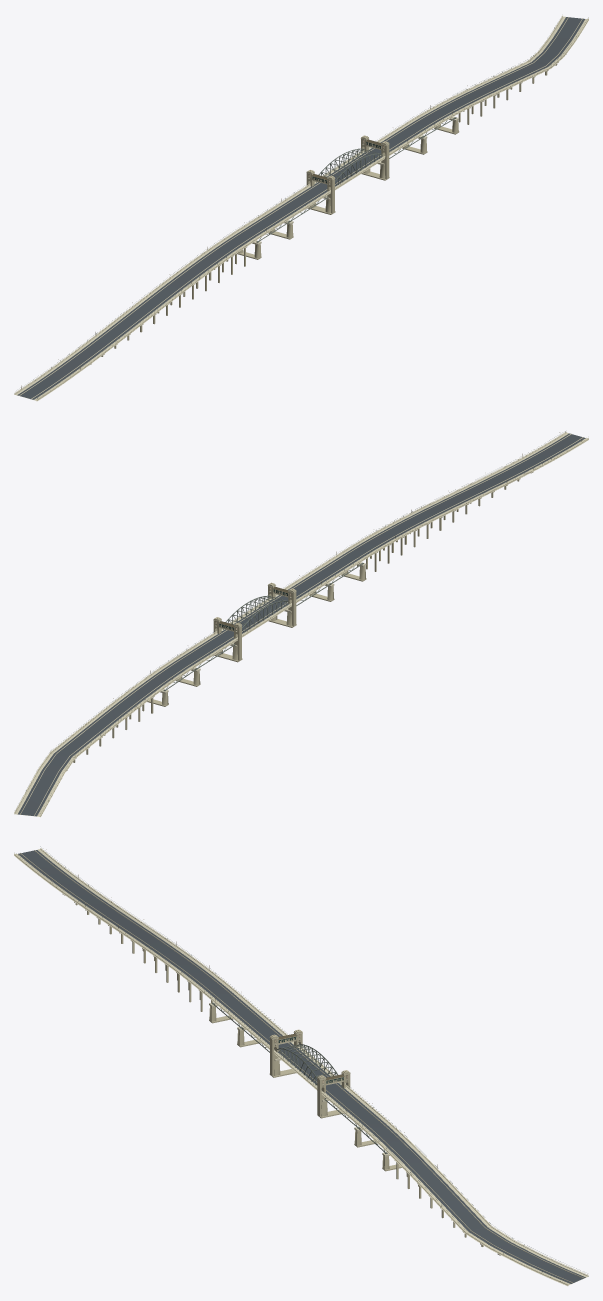
Rendered from burrard-street-bridge-far.glb.
The picture shows the model from 3 angles, top to bottom: view 1: azimuth 30°, elevation 25°; view 2: azimuth 210°, elevation 25°; view 3: azimuth 270°, elevation 25°; orthographic projection. The views are drawn at different scales.
Parts seen in each view (by area): view 1: burrard-street-bridge-0-asphalt, burrard-street-bridge-0-concrete, burrard-street-bridge-0-stone, burrard-street-bridge-0-steel; view 2: burrard-street-bridge-0-asphalt, burrard-street-bridge-0-concrete, burrard-street-bridge-0-stone, burrard-street-bridge-0-steel; view 3: burrard-street-bridge-0-asphalt, burrard-street-bridge-0-concrete, burrard-street-bridge-0-stone, burrard-street-bridge-0-steel.
Part boxes in pixels (box(x1,y1,x2,y2)): burrard-street-bridge-0-asphalt: box(17, 17, 584, 399); burrard-street-bridge-0-concrete: box(14, 15, 588, 401); burrard-street-bridge-0-stone: box(14, 16, 588, 400); burrard-street-bridge-0-steel: box(33, 17, 588, 398); burrard-street-bridge-0-asphalt: box(18, 433, 585, 816); burrard-street-bridge-0-concrete: box(14, 431, 588, 817); burrard-street-bridge-0-stone: box(14, 432, 588, 816); burrard-street-bridge-0-steel: box(23, 431, 582, 813); burrard-street-bridge-0-asphalt: box(18, 850, 585, 1283); burrard-street-bridge-0-concrete: box(14, 848, 588, 1286); burrard-street-bridge-0-stone: box(14, 848, 588, 1285); burrard-street-bridge-0-steel: box(16, 846, 580, 1279).
Bounding box in the file's own units: 927 × 42.58 × 516.
